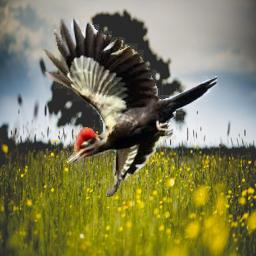Woodpecker: (43, 18, 219, 197)
